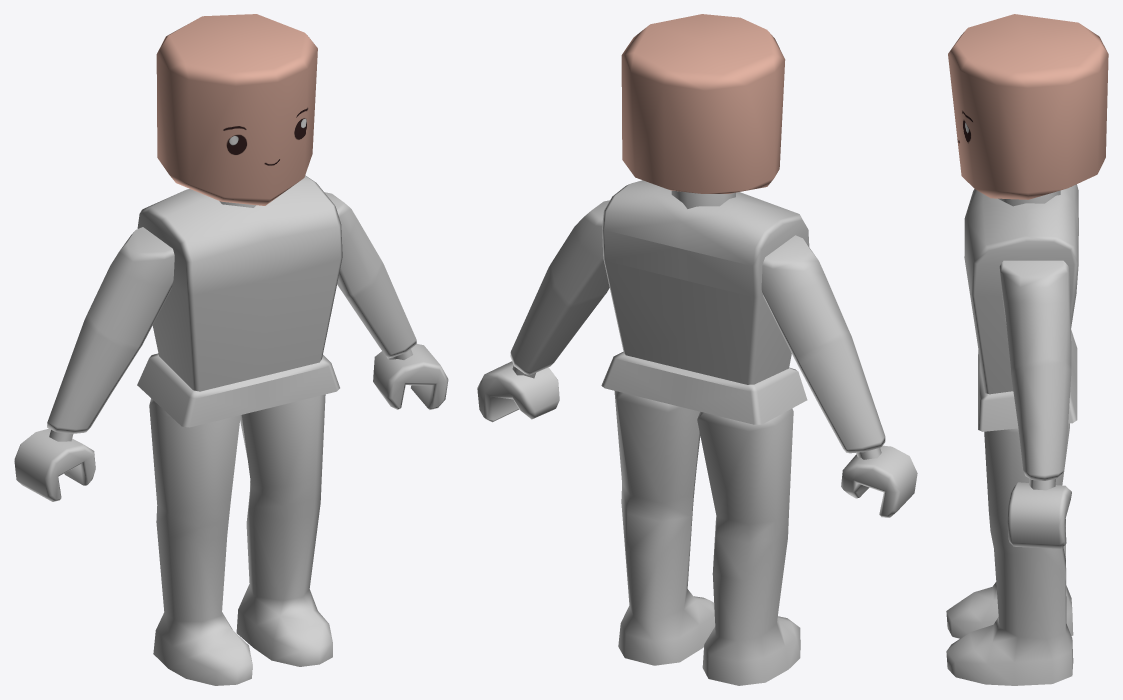
File: BaseBody.fbx
3 renders of one model, left to right at view 1: azimuth 30°, elevation 25°; view 2: azimuth 150°, elevation 25°; view 3: azimuth 270°, elevation 25°, orthographic.
Parts seen in each view (by area): view 1: BaseCharacter:Torso_mesh, BaseCharacter:Head_mesh, BaseCharacter:RightLeg_mesh, BaseCharacter:LeftLeg_mesh, BaseCharacter:RightArm_mesh, BaseCharacter:LeftArm_mesh; view 2: BaseCharacter:Torso_mesh, BaseCharacter:Head_mesh, BaseCharacter:RightLeg_mesh, BaseCharacter:LeftLeg_mesh, BaseCharacter:RightArm_mesh, BaseCharacter:LeftArm_mesh; view 3: BaseCharacter:Head_mesh, BaseCharacter:LeftArm_mesh, BaseCharacter:LeftLeg_mesh, BaseCharacter:Torso_mesh, BaseCharacter:RightLeg_mesh.
Boxes of the visible parts, x1,y1,x2,y2 form: BaseCharacter:Torso_mesh: (137, 175, 342, 427); BaseCharacter:Head_mesh: (156, 14, 317, 205); BaseCharacter:RightLeg_mesh: (149, 398, 252, 685); BaseCharacter:LeftLeg_mesh: (236, 394, 332, 666); BaseCharacter:RightArm_mesh: (14, 227, 174, 501); BaseCharacter:LeftArm_mesh: (324, 192, 448, 409); BaseCharacter:Torso_mesh: (601, 180, 809, 424); BaseCharacter:Head_mesh: (621, 14, 785, 193); BaseCharacter:RightLeg_mesh: (697, 408, 800, 685); BaseCharacter:LeftLeg_mesh: (614, 390, 715, 665); BaseCharacter:RightArm_mesh: (761, 235, 917, 517); BaseCharacter:LeftArm_mesh: (477, 200, 609, 422); BaseCharacter:Head_mesh: (948, 14, 1108, 199); BaseCharacter:LeftArm_mesh: (999, 260, 1071, 548); BaseCharacter:LeftLeg_mesh: (946, 423, 1073, 685); BaseCharacter:Torso_mesh: (964, 184, 1078, 431); BaseCharacter:RightLeg_mesh: (946, 519, 1073, 638).
Size of the model in its own units: 69.91 by 96.85 by 23.45.
